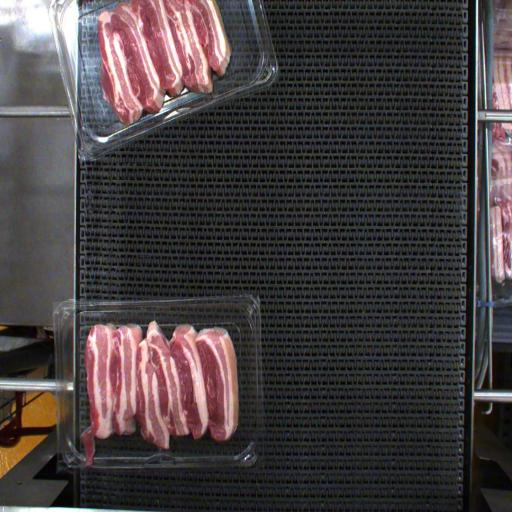loose-meat: (74, 417, 102, 467)
